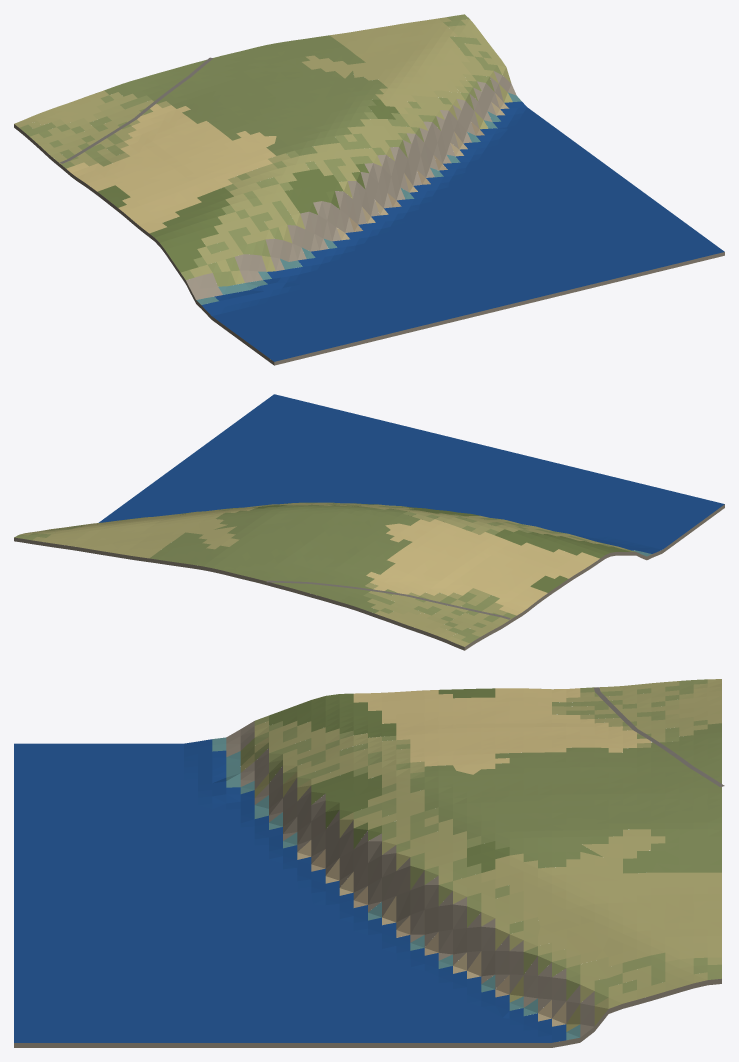
The model's file is parca_+6_-10-uzak.glb.
3 views of the same model, one above another, from view 1: azimuth 30°, elevation 25°; view 2: azimuth 150°, elevation 25°; view 3: azimuth 270°, elevation 25° (orthographic). The views are drawn at different scales.
Parts seen in each view (by area): view 1: parca_+6_-10_arazi_uzak, parca_+6_-10_yollar_uzak; view 2: parca_+6_-10_arazi_uzak, parca_+6_-10_yollar_uzak; view 3: parca_+6_-10_arazi_uzak, parca_+6_-10_yollar_uzak.
Boxes of the visible parts, bbox=[...] form: parca_+6_-10_arazi_uzak: bbox=[14, 14, 724, 365]; parca_+6_-10_yollar_uzak: bbox=[60, 57, 212, 163]; parca_+6_-10_arazi_uzak: bbox=[14, 394, 724, 650]; parca_+6_-10_yollar_uzak: bbox=[266, 580, 510, 619]; parca_+6_-10_arazi_uzak: bbox=[14, 679, 721, 1047]; parca_+6_-10_yollar_uzak: bbox=[594, 687, 724, 786].
Bounding box in the file's own units: 1000 × 146 × 1004.
